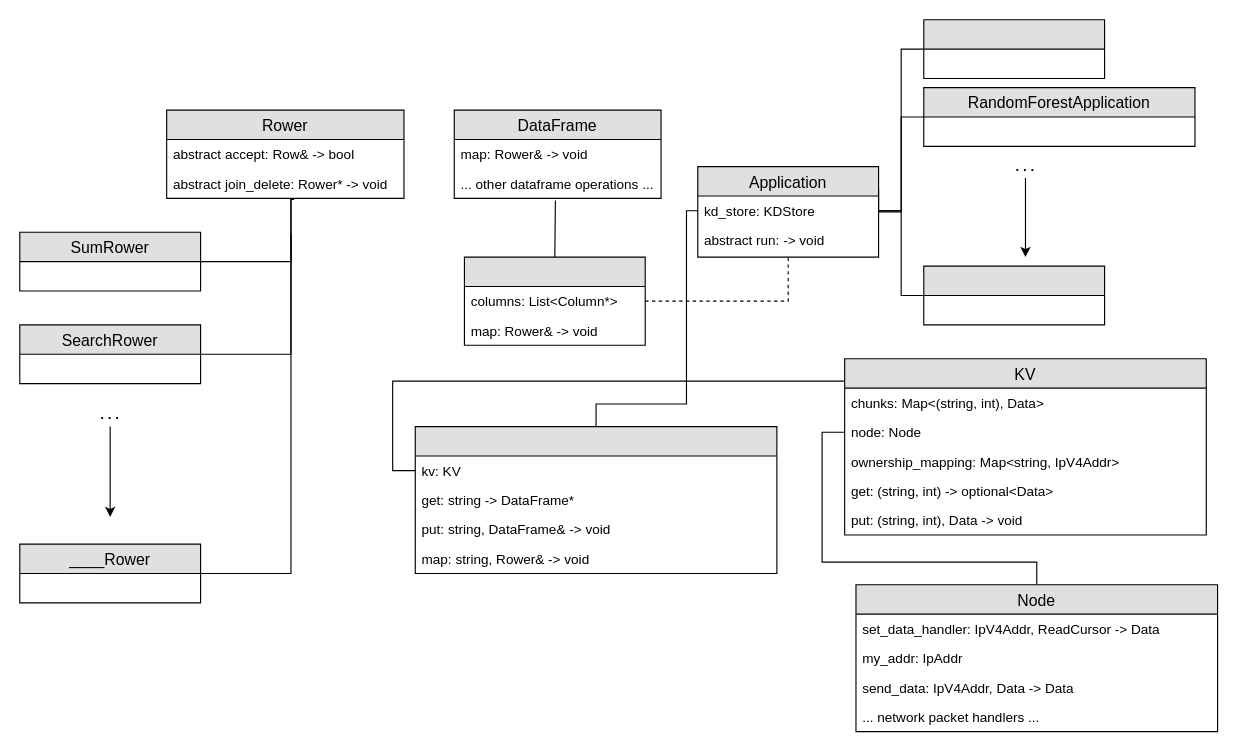
This 1237x755 diagram has some shape labels left out. The shapes that lost their labels are listed below. From the top down, each one's box as (x1, y1, x2, y2) in pixels, then its label:
(923, 19, 1105, 79): CountApplication
(463, 256, 645, 345): SimpleDataFrame
(923, 265, 1105, 325): ______Application
(414, 425, 777, 573): KDStore
